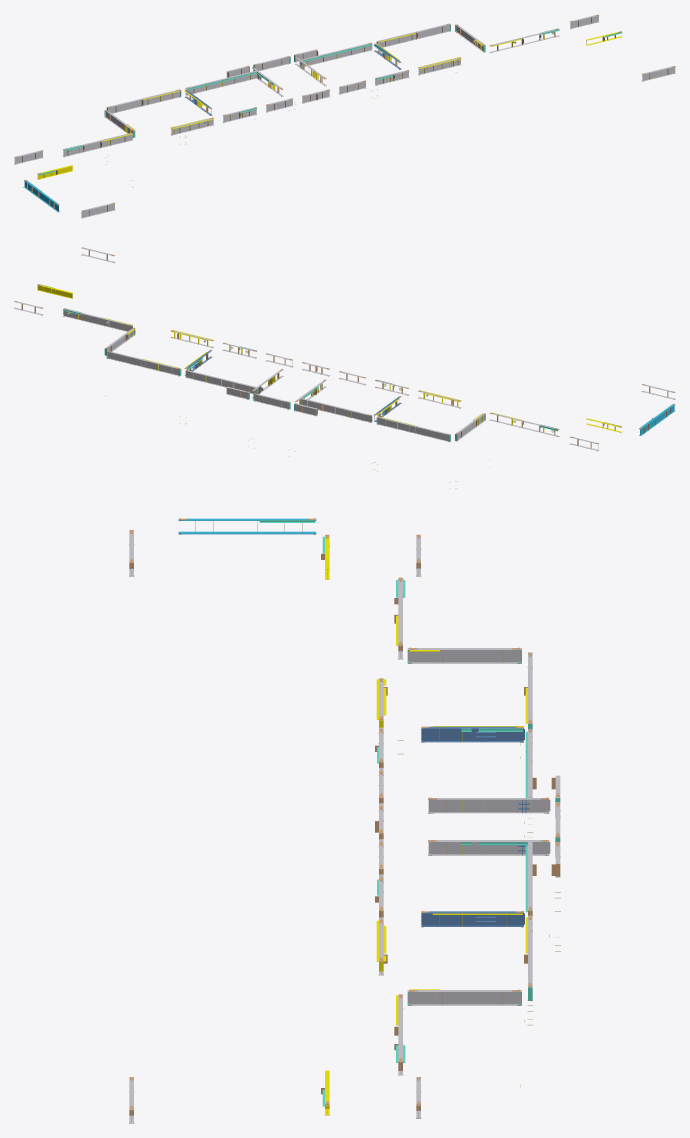
3 views of the same model, one above another, from view 1: azimuth 30°, elevation 25°; view 2: azimuth 150°, elevation 25°; view 3: azimuth 270°, elevation 25° (orthographic). The views are drawn at different scales.
Parts seen in each view (by area): view 1: 18-2GL[1Uirpo001FfJ4rE3WuD30o], 18-2GL[1Uirpo001FxJ4rE3WuD30o], 18-2GL[1Uirpo001FaJ4rE3WuD30o], 18-2GL[1Uirpo001FvJ4rE3WuD30o], 18-2GL[1Uirpo001FiJ4rE3WuD30o], 18-2GL[1Uirpo001GHJ4rE3WuD30o], 18-2GL[1Uirpo001GBJ4rE3WuD30o], 18-2GL[1Uirpo001GKJ4rE3WuD30o]; view 2: 18-2GL[1Uirpo001FxJ4rE3WuD30o], 18-2GL[1Uirpo001FfJ4rE3WuD30o], 18-2GL[1Uirpo001FiJ4rE3WuD30o], 18-2GL[1Uirpo001FvJ4rE3WuD30o], 18-2GL[1Uirpo001G5J4rE3WuD30o]; view 3: 18-2GL[1Uirpo001FkJ4rE3WuD30o], 18-2GL[1Uirpo001G2J4rE3WuD30o], 18-2GL[1Uirpo001FcJ4rE3WuD30o], 18-2GL[1Uirpo001FtJ4rE3WuD30o], 18-2GL[1Uirpo001G0J4rE3WuD30o], 18-2GL[1Uirpo001F_J4rE3WuD30o], 18-2GL[1Uirpo001GKJ4rE3WuD30o].
Part boxes in pixels (x1,y1,x2,y2): 18-2GL[1Uirpo001FfJ4rE3WuD30o]: (107,89,180,113); 18-2GL[1Uirpo001FxJ4rE3WuD30o]: (377,23,450,47); 18-2GL[1Uirpo001FaJ4rE3WuD30o]: (63,133,132,156); 18-2GL[1Uirpo001FvJ4rE3WuD30o]: (301,43,372,66); 18-2GL[1Uirpo001FiJ4rE3WuD30o]: (185,71,256,95); 18-2GL[1Uirpo001GHJ4rE3WuD30o]: (418,58,461,74); 18-2GL[1Uirpo001GBJ4rE3WuD30o]: (171,118,213,135); 18-2GL[1Uirpo001GKJ4rE3WuD30o]: (24,180,59,211); 18-2GL[1Uirpo001FxJ4rE3WuD30o]: (107,351,180,375); 18-2GL[1Uirpo001FfJ4rE3WuD30o]: (377,416,450,441); 18-2GL[1Uirpo001FiJ4rE3WuD30o]: (301,398,372,422); 18-2GL[1Uirpo001FvJ4rE3WuD30o]: (185,370,256,393); 18-2GL[1Uirpo001G5J4rE3WuD30o]: (63,309,132,331); 18-2GL[1Uirpo001FkJ4rE3WuD30o]: (428,798,550,813); 18-2GL[1Uirpo001G2J4rE3WuD30o]: (407,990,521,1005); 18-2GL[1Uirpo001FcJ4rE3WuD30o]: (407,648,521,663); 18-2GL[1Uirpo001FtJ4rE3WuD30o]: (428,840,550,855); 18-2GL[1Uirpo001G0J4rE3WuD30o]: (421,726,524,742); 18-2GL[1Uirpo001F_J4rE3WuD30o]: (421,911,524,926); 18-2GL[1Uirpo001GKJ4rE3WuD30o]: (178,518,316,534).
Size of the model in its own units: 38.84 by 3.35 by 11.99.
